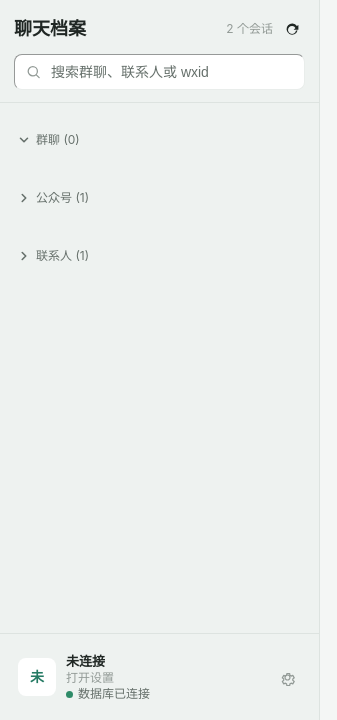
Test: ConversationSidebar › keeps official accounts in their own collapsible section
Expected: the button "联系人 (1)" is shown, [8,227,311,285]
Expected: the text "测试公众号" is not shown
Click the button "公众号 (1)": (54, 198) [8,169,311,227]
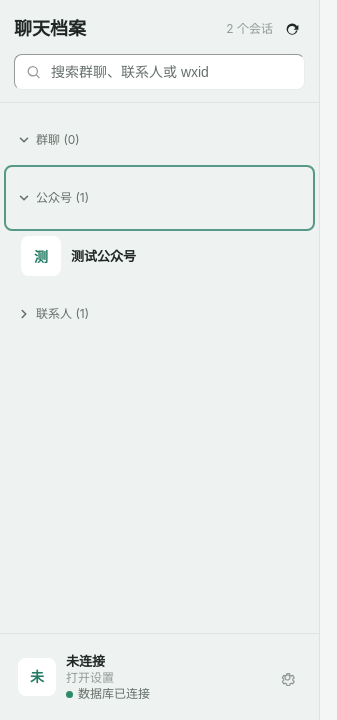
Expected: the text "测试公众号" is shown, [71,248,136,264]
